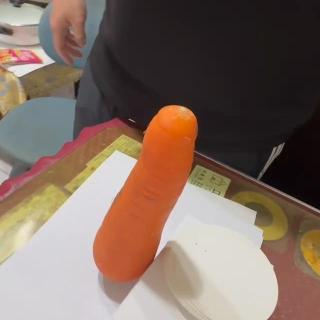carrot: (92, 104, 200, 284)
